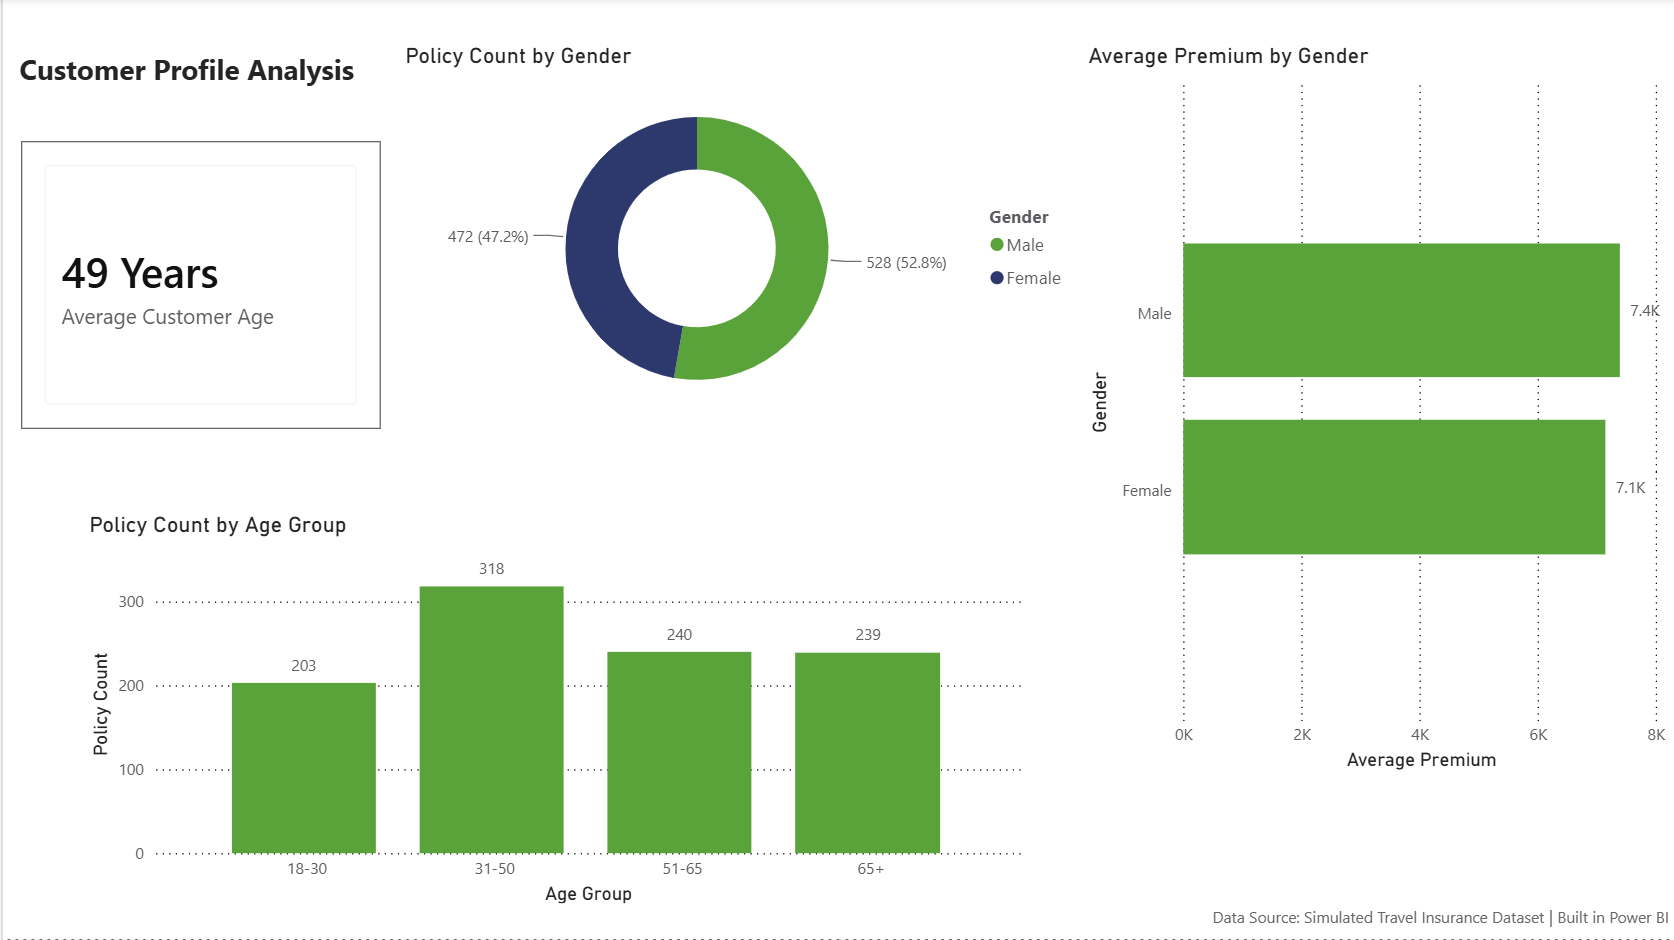

This screenshot's page, from the dashboard's own definition file:
{"tool":"powerbi","page":{"name":"Customer demographics","canvas":[1280,720],"ordinal":3},"visuals":[{"type":"cardVisual","fields":{"Data":["Policies.Average Customer Age Text"]},"box":[13.8,110.2,275.6,220.5],"z":0},{"type":"donutChart","fields":{"Category":["Policies.Gender"],"Y":["Policies.Policy Count"]},"box":[303.2,35.2,522.1,295.5],"z":1000},{"type":"barChart","fields":{"Y":["Policies.Average Premium"],"Category":["Policies.Gender"]},"box":[825.3,35.2,454.7,560.4],"z":2000},{"type":"clusteredColumnChart","fields":{"Category":["Policies.Age Group"],"Y":["Policies.Policy Count"]},"box":[61.2,393.5,722.7,304.7],"z":3000},{"type":"textbox","box":[7.7,35.2,281.7,65.8],"z":4000},{"type":"textbox","box":[920.2,689,359.8,30.6],"z":5000}]}

Visuals, with their boxes in screenshot pixels (x1, y1, x2, y2), scaled from the page's 1280x720 canvas onto the 1674x940 screenshot:
cardVisual - Policies.Average Customer Age Text: pyautogui.locateOnScreen(18, 144, 378, 432)
donutChart - Policies.Gender x Policies.Policy Count: pyautogui.locateOnScreen(397, 46, 1079, 432)
barChart - Policies.Average Premium x Policies.Gender: pyautogui.locateOnScreen(1079, 46, 1673, 778)
clusteredColumnChart - Policies.Age Group x Policies.Policy Count: pyautogui.locateOnScreen(80, 514, 1025, 912)
textbox: pyautogui.locateOnScreen(10, 46, 378, 132)
textbox: pyautogui.locateOnScreen(1203, 900, 1673, 939)
